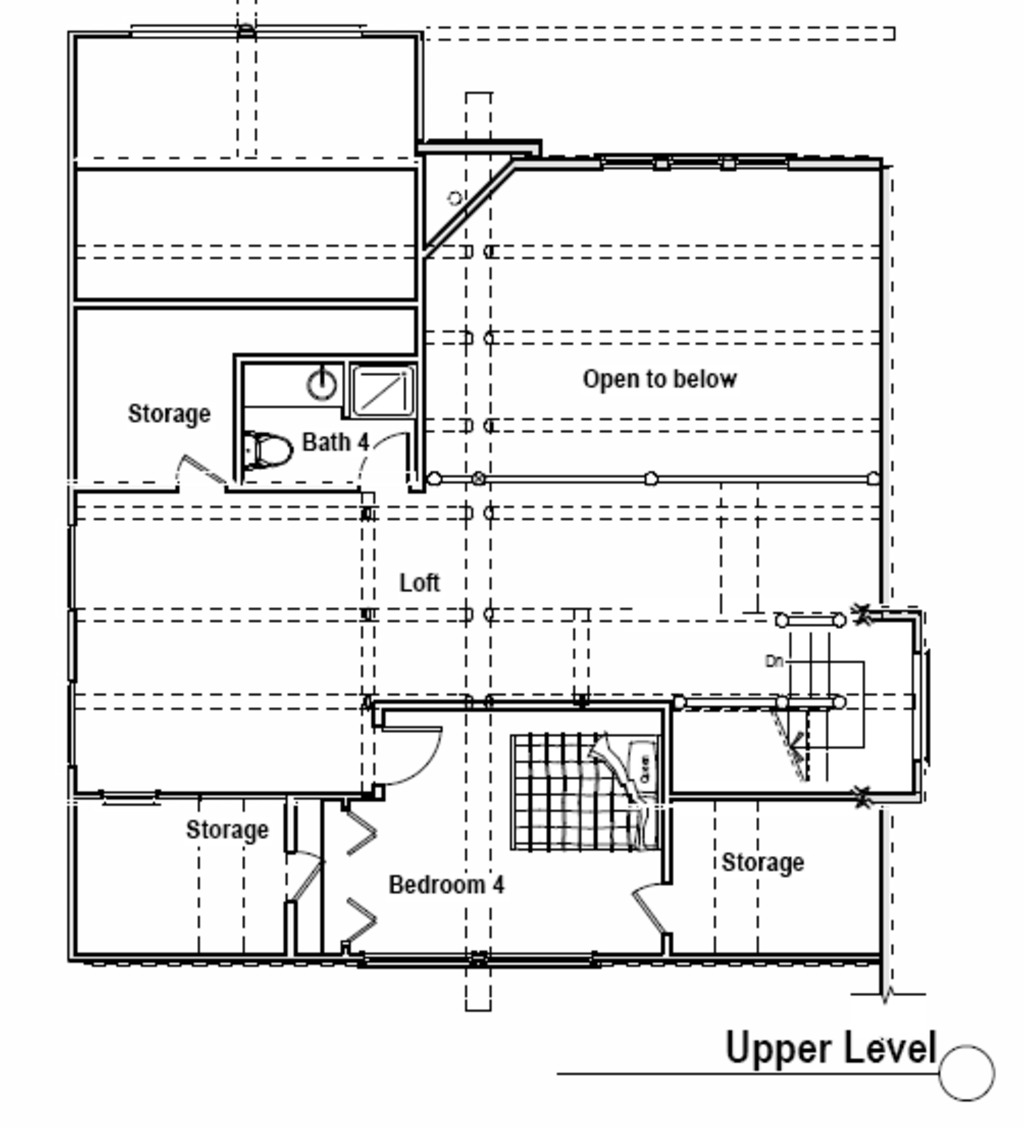bed: (484, 715, 664, 857)
door: (364, 722, 455, 793), (355, 434, 427, 512), (621, 883, 690, 938), (276, 838, 329, 902)
large_sink: (233, 419, 309, 483)
small_sink: (267, 367, 353, 407)
stairs: (755, 622, 909, 765)
window: (596, 145, 798, 179)
